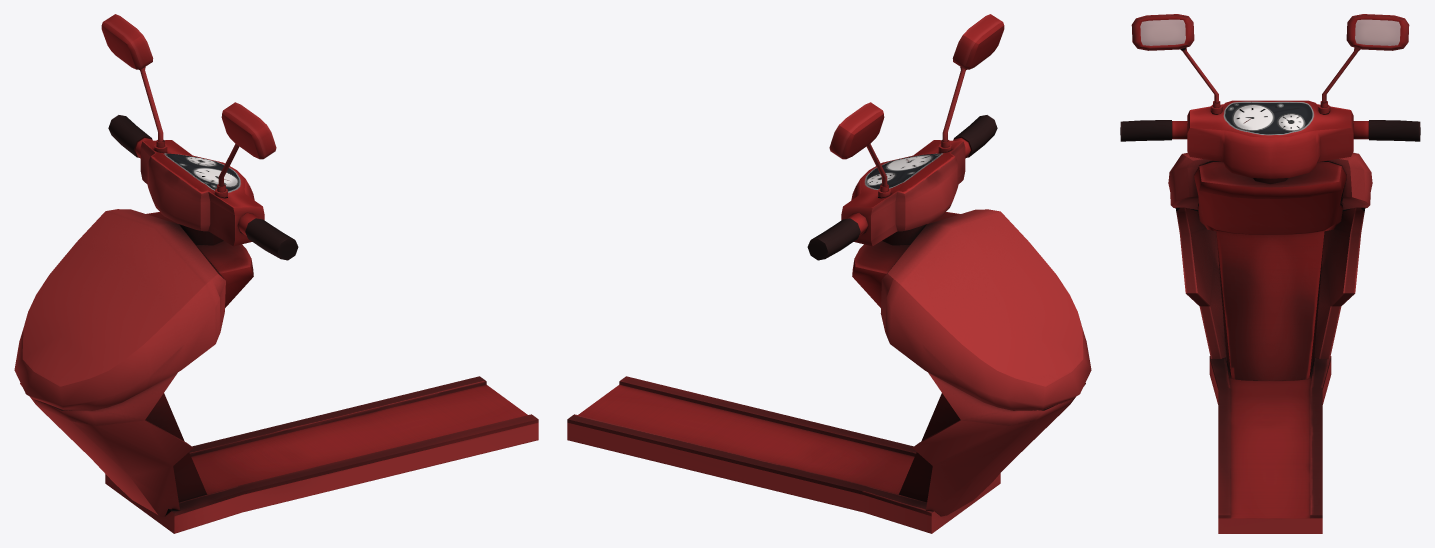
The model's file is Bike.fbx.
3 renders of one model, left to right at view 1: azimuth 30°, elevation 25°; view 2: azimuth 150°, elevation 25°; view 3: azimuth 270°, elevation 25°, orthographic. The views are drawn at different scales.
Parts seen in each view (by area): view 1: pCube7; view 2: pCube7; view 3: pCube7.
Part boxes in pixels (x1=…): pCube7: x1=14, y1=14, x2=538, y2=533; pCube7: x1=567, y1=14, x2=1091, y2=533; pCube7: x1=1120, y1=14, x2=1420, y2=533.
Bounding box in the file's own units: 7.99 × 6.81 × 4.87.
